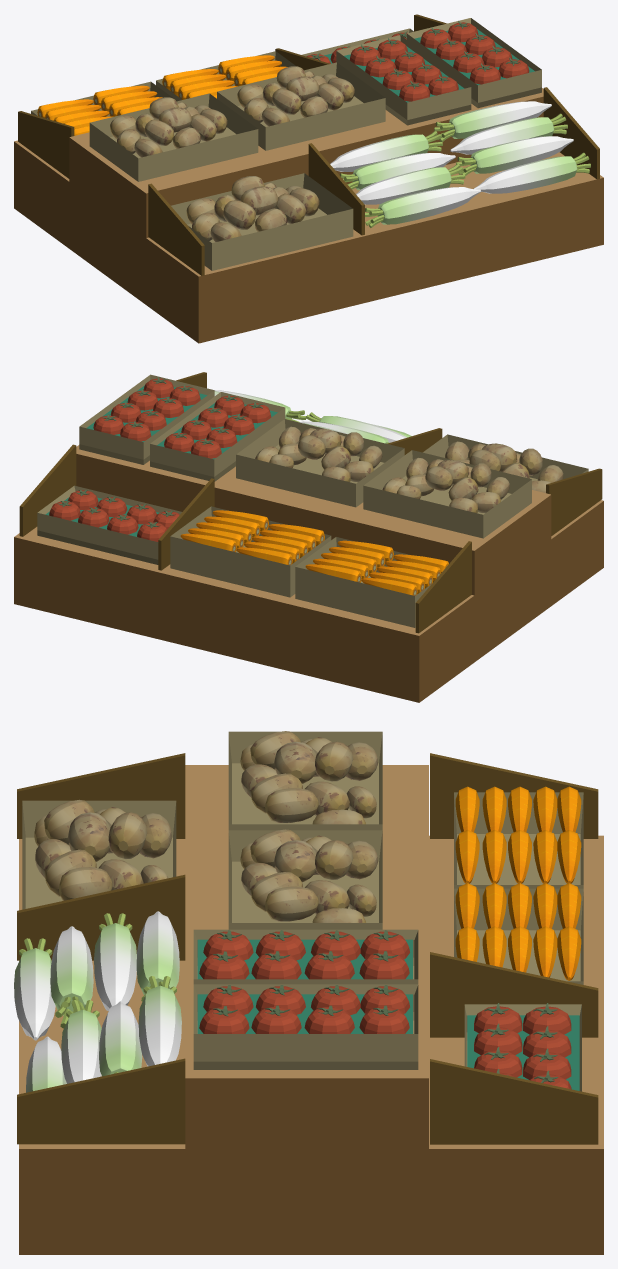
Rendered from shelf_vegetable.fbx.
The picture shows the model from 3 angles, top to bottom: view 1: azimuth 30°, elevation 25°; view 2: azimuth 150°, elevation 25°; view 3: azimuth 270°, elevation 25°; orthographic projection. The views are drawn at different scales.
Parts seen in each view (by area): view 1: shelf_vegetable; view 2: shelf_vegetable; view 3: shelf_vegetable.
Part boxes in pixels (x1,y1,x2,y2): shelf_vegetable: (14,14,603,343); shelf_vegetable: (14,372,603,702); shelf_vegetable: (14,731,603,1254).
Size of the model in its own units: 380 by 140 by 303.
Materials: 11 (4 with a texture image).
